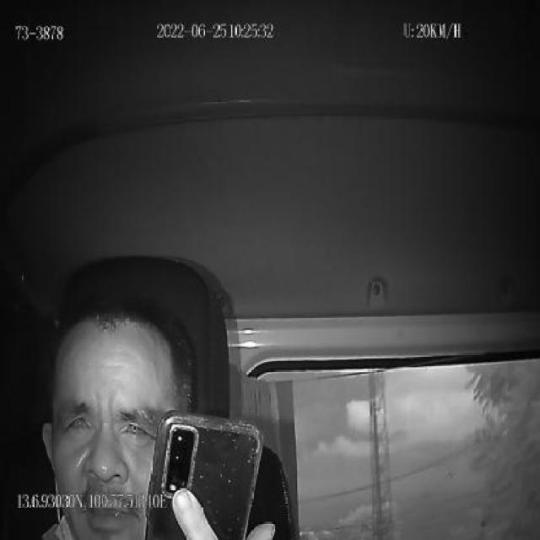phone: (144, 408, 262, 540)
